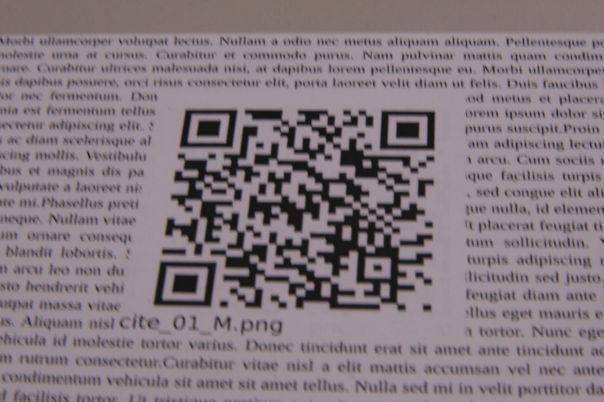qr_code: (153, 109, 436, 313)
